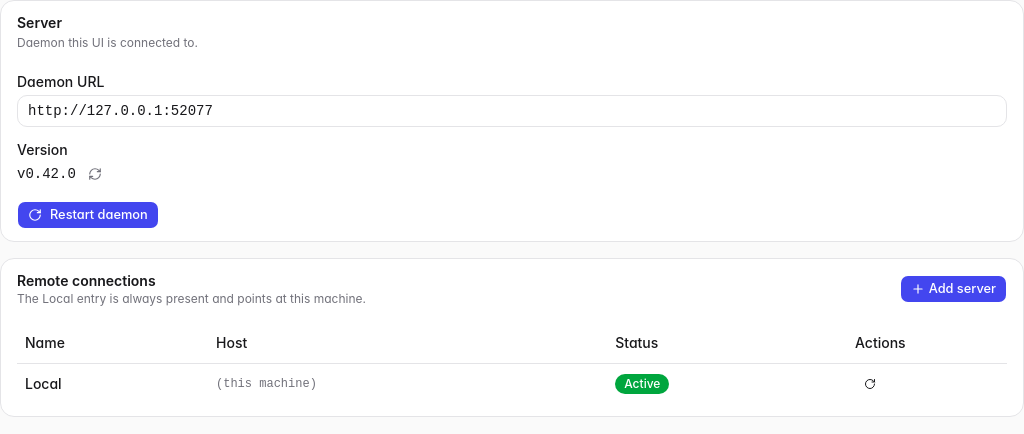
Scenario: ServerSection — version refresh › re-fetches version when the refresh button is clicked
Click the button with test id "server-section-version-refresh".
click(95, 174)  # box [84,163,106,185]
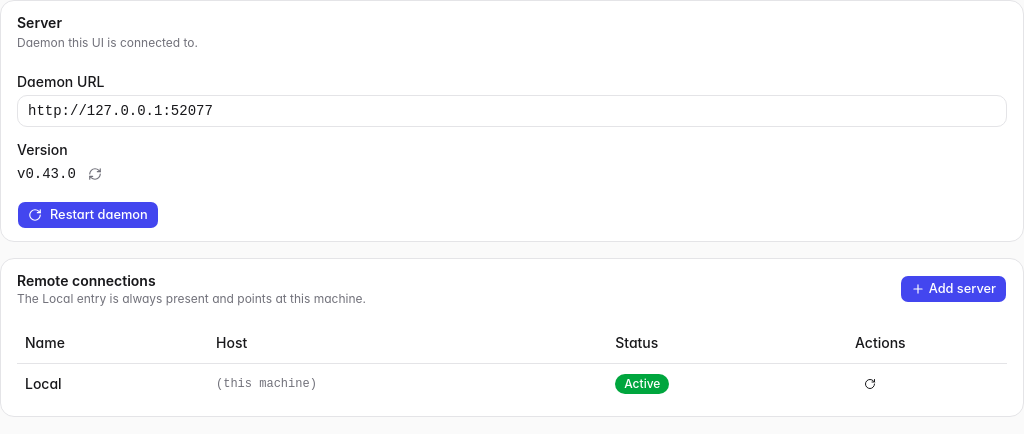
Now the text with test id "server-section-version" reads "v0.43.0", box [17,166,76,182]
